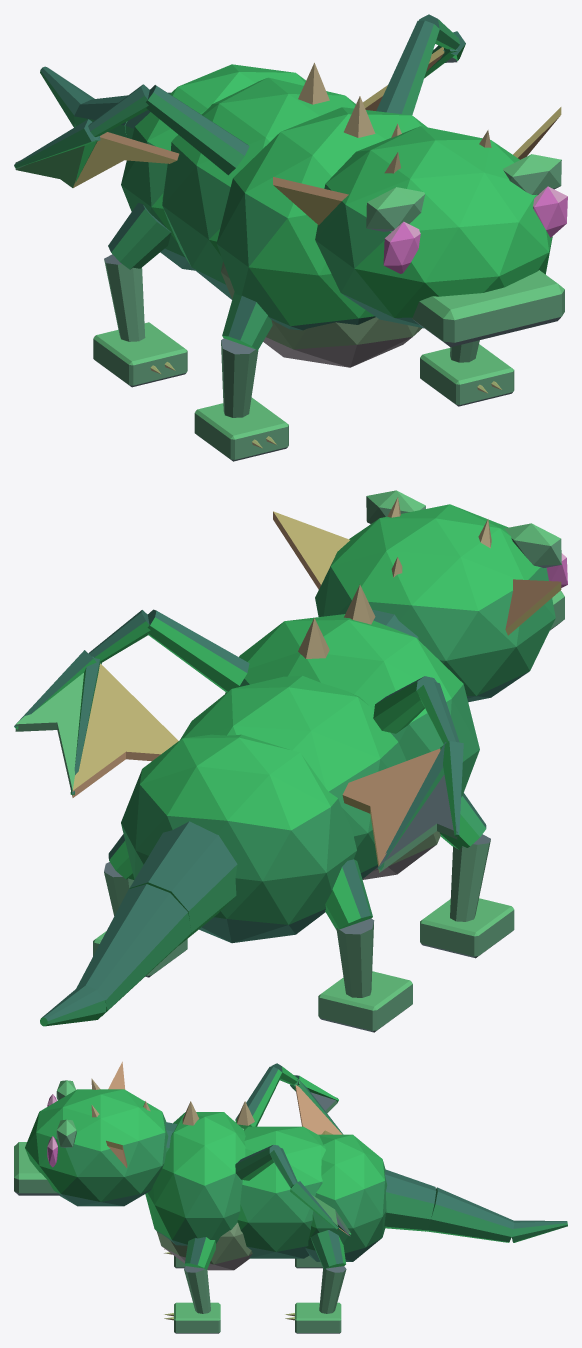
File: creature_dragon_whelp_v01.glb
The picture shows the model from 3 angles, top to bottom: view 1: azimuth 30°, elevation 25°; view 2: azimuth 150°, elevation 25°; view 3: azimuth 270°, elevation 25°; orthographic projection. The views are drawn at different scales.
Parts seen in each view (by area): view 1: GEO_creature_dragon_whelp_v01; view 2: GEO_creature_dragon_whelp_v01; view 3: GEO_creature_dragon_whelp_v01.
Boxes of the visible parts, x1,y1,x2,y2 form: GEO_creature_dragon_whelp_v01: (14,14,567,461); GEO_creature_dragon_whelp_v01: (14,490,567,1032); GEO_creature_dragon_whelp_v01: (14,1061,567,1333).
Bounding box in the file's own units: 1.98 × 1.44 × 3.57.
